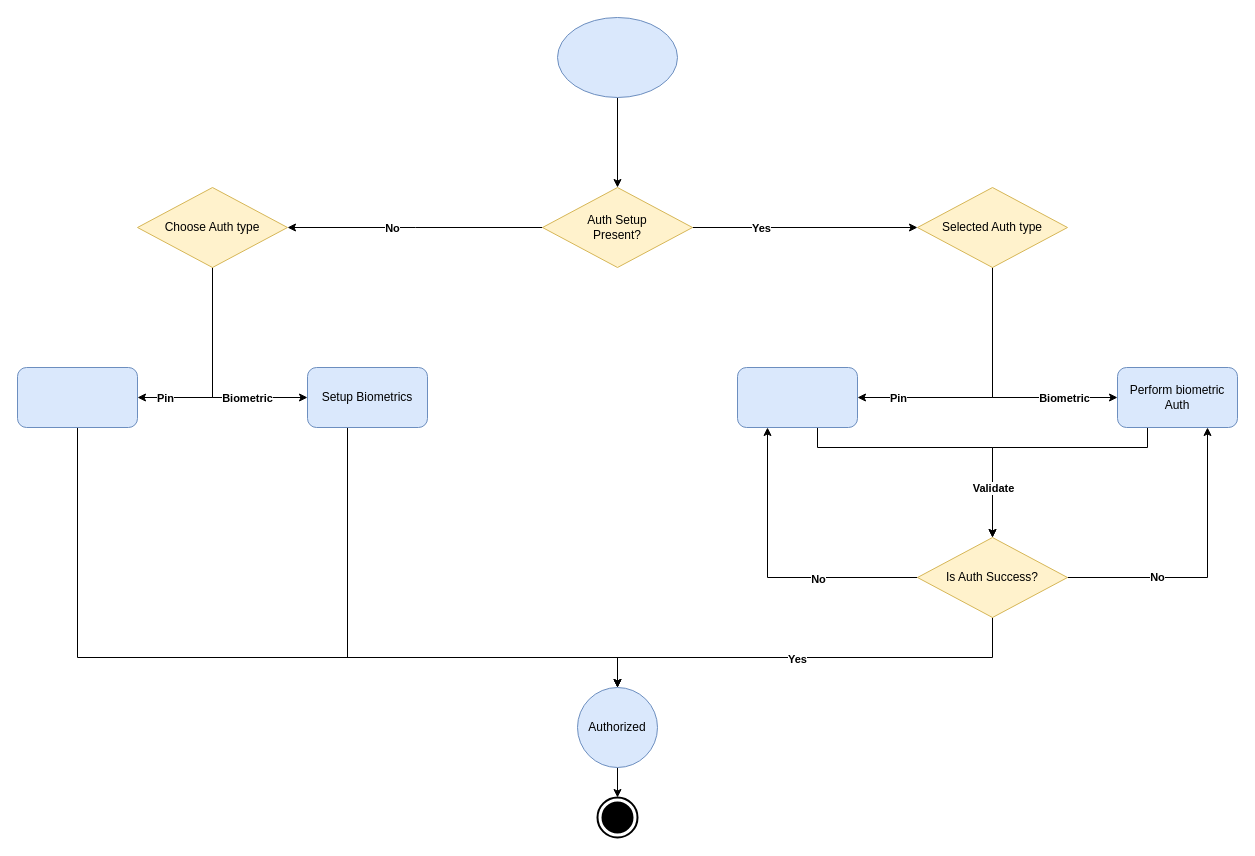
Image size: 1255x856. Some labels were removed from this diagram. The shapes that lost their labels are listed below. From the top down, each one's centre as x and y in pixels, then its label:
point 617,57: User opens INJI App
point 77,397: Setup Pin
point 797,397: Perform Pin based Auth
